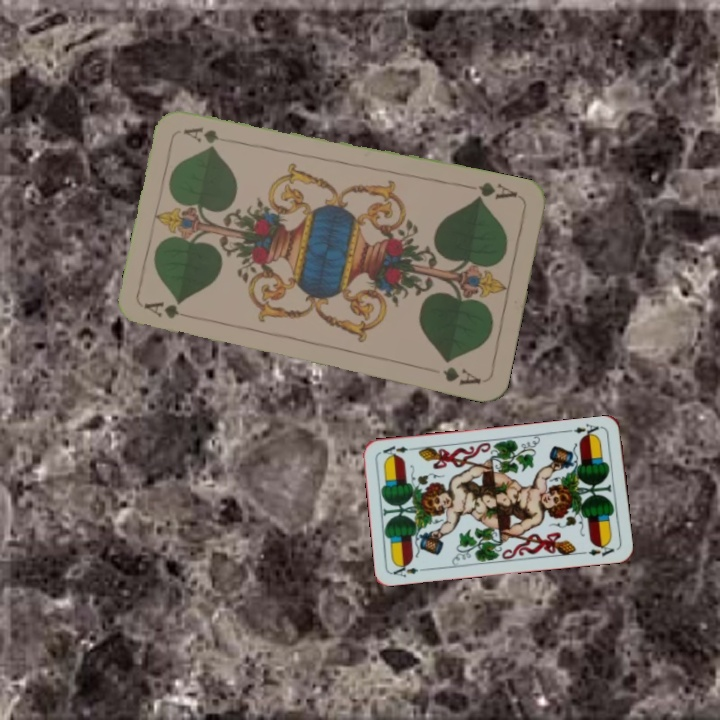EA: (564, 420, 605, 441), (389, 560, 430, 580)
GA: (141, 298, 200, 323), (471, 178, 520, 204)
